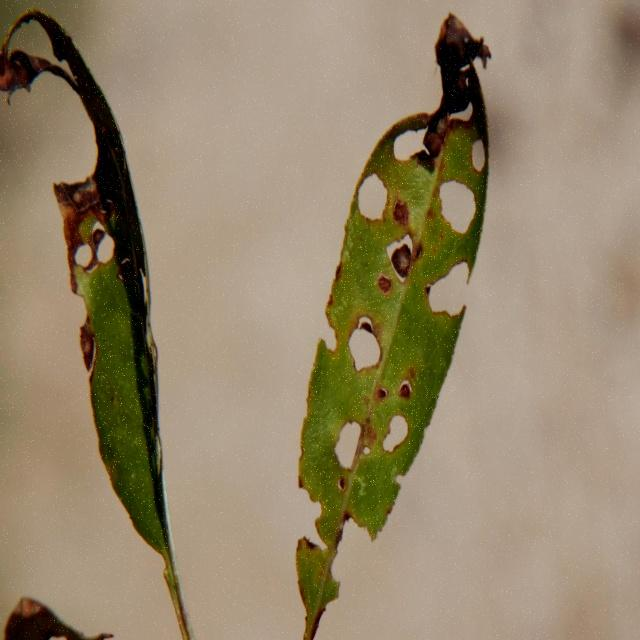shot_hole: (269, 90, 496, 619), (13, 64, 240, 593)
